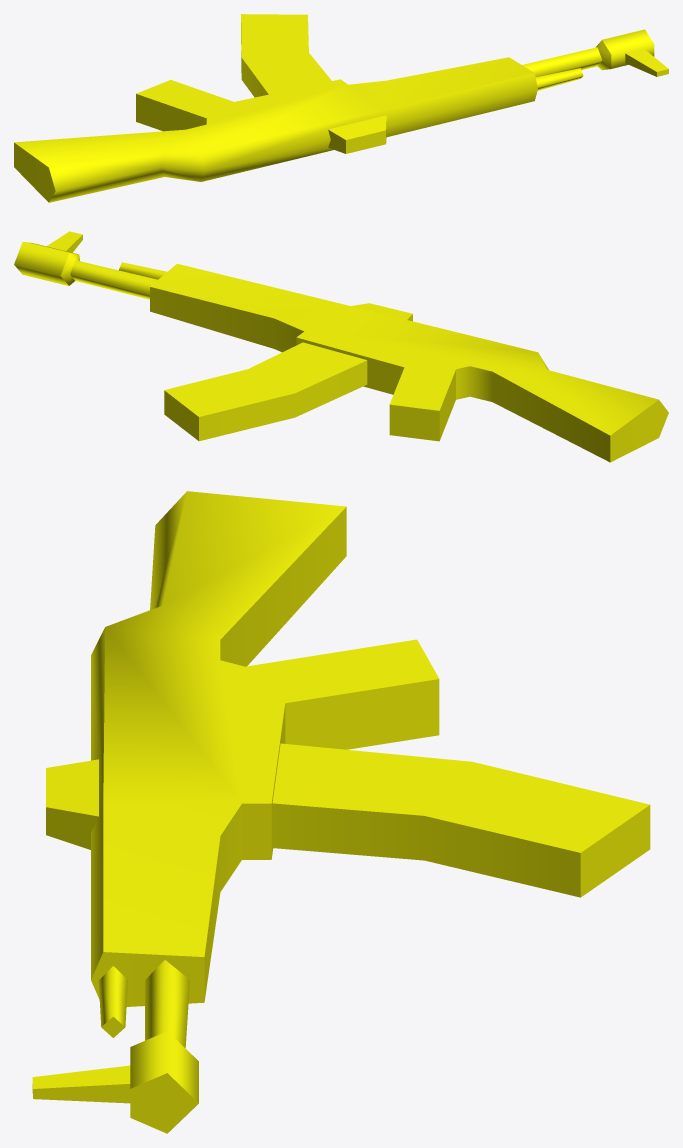
The model's file is weapon_stg44.glb.
The picture shows the model from 3 angles, top to bottom: view 1: azimuth 30°, elevation 25°; view 2: azimuth 150°, elevation 25°; view 3: azimuth 270°, elevation 25°; orthographic projection. The views are drawn at different scales.
Visible parts, largest first — view 1: weapon_stg44; view 2: weapon_stg44; view 3: weapon_stg44.
Part boxes in pixels (x1,y1,x2,y2): weapon_stg44: (14,14,668,202); weapon_stg44: (14,231,668,462); weapon_stg44: (32,491,650,1133).
Size of the model in its own units: 1.57 by 0.0895 by 0.7091.
1 material, 1 textured.
